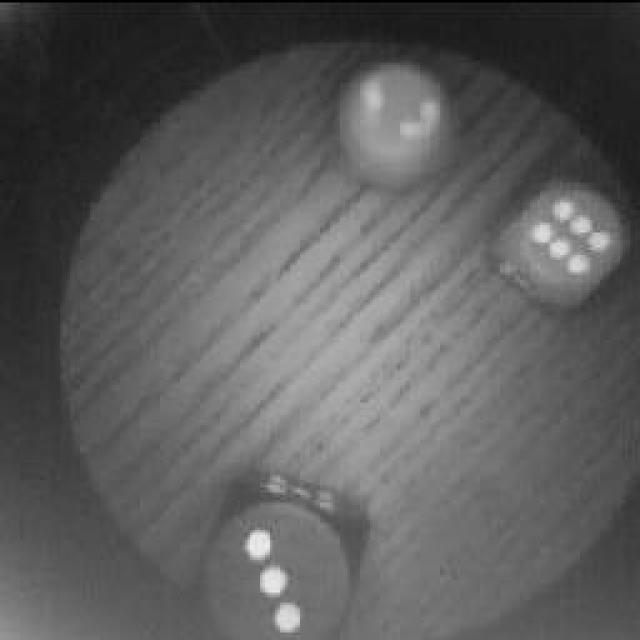dice_3: (183, 482, 365, 640)
dice_6: (495, 168, 633, 302)
